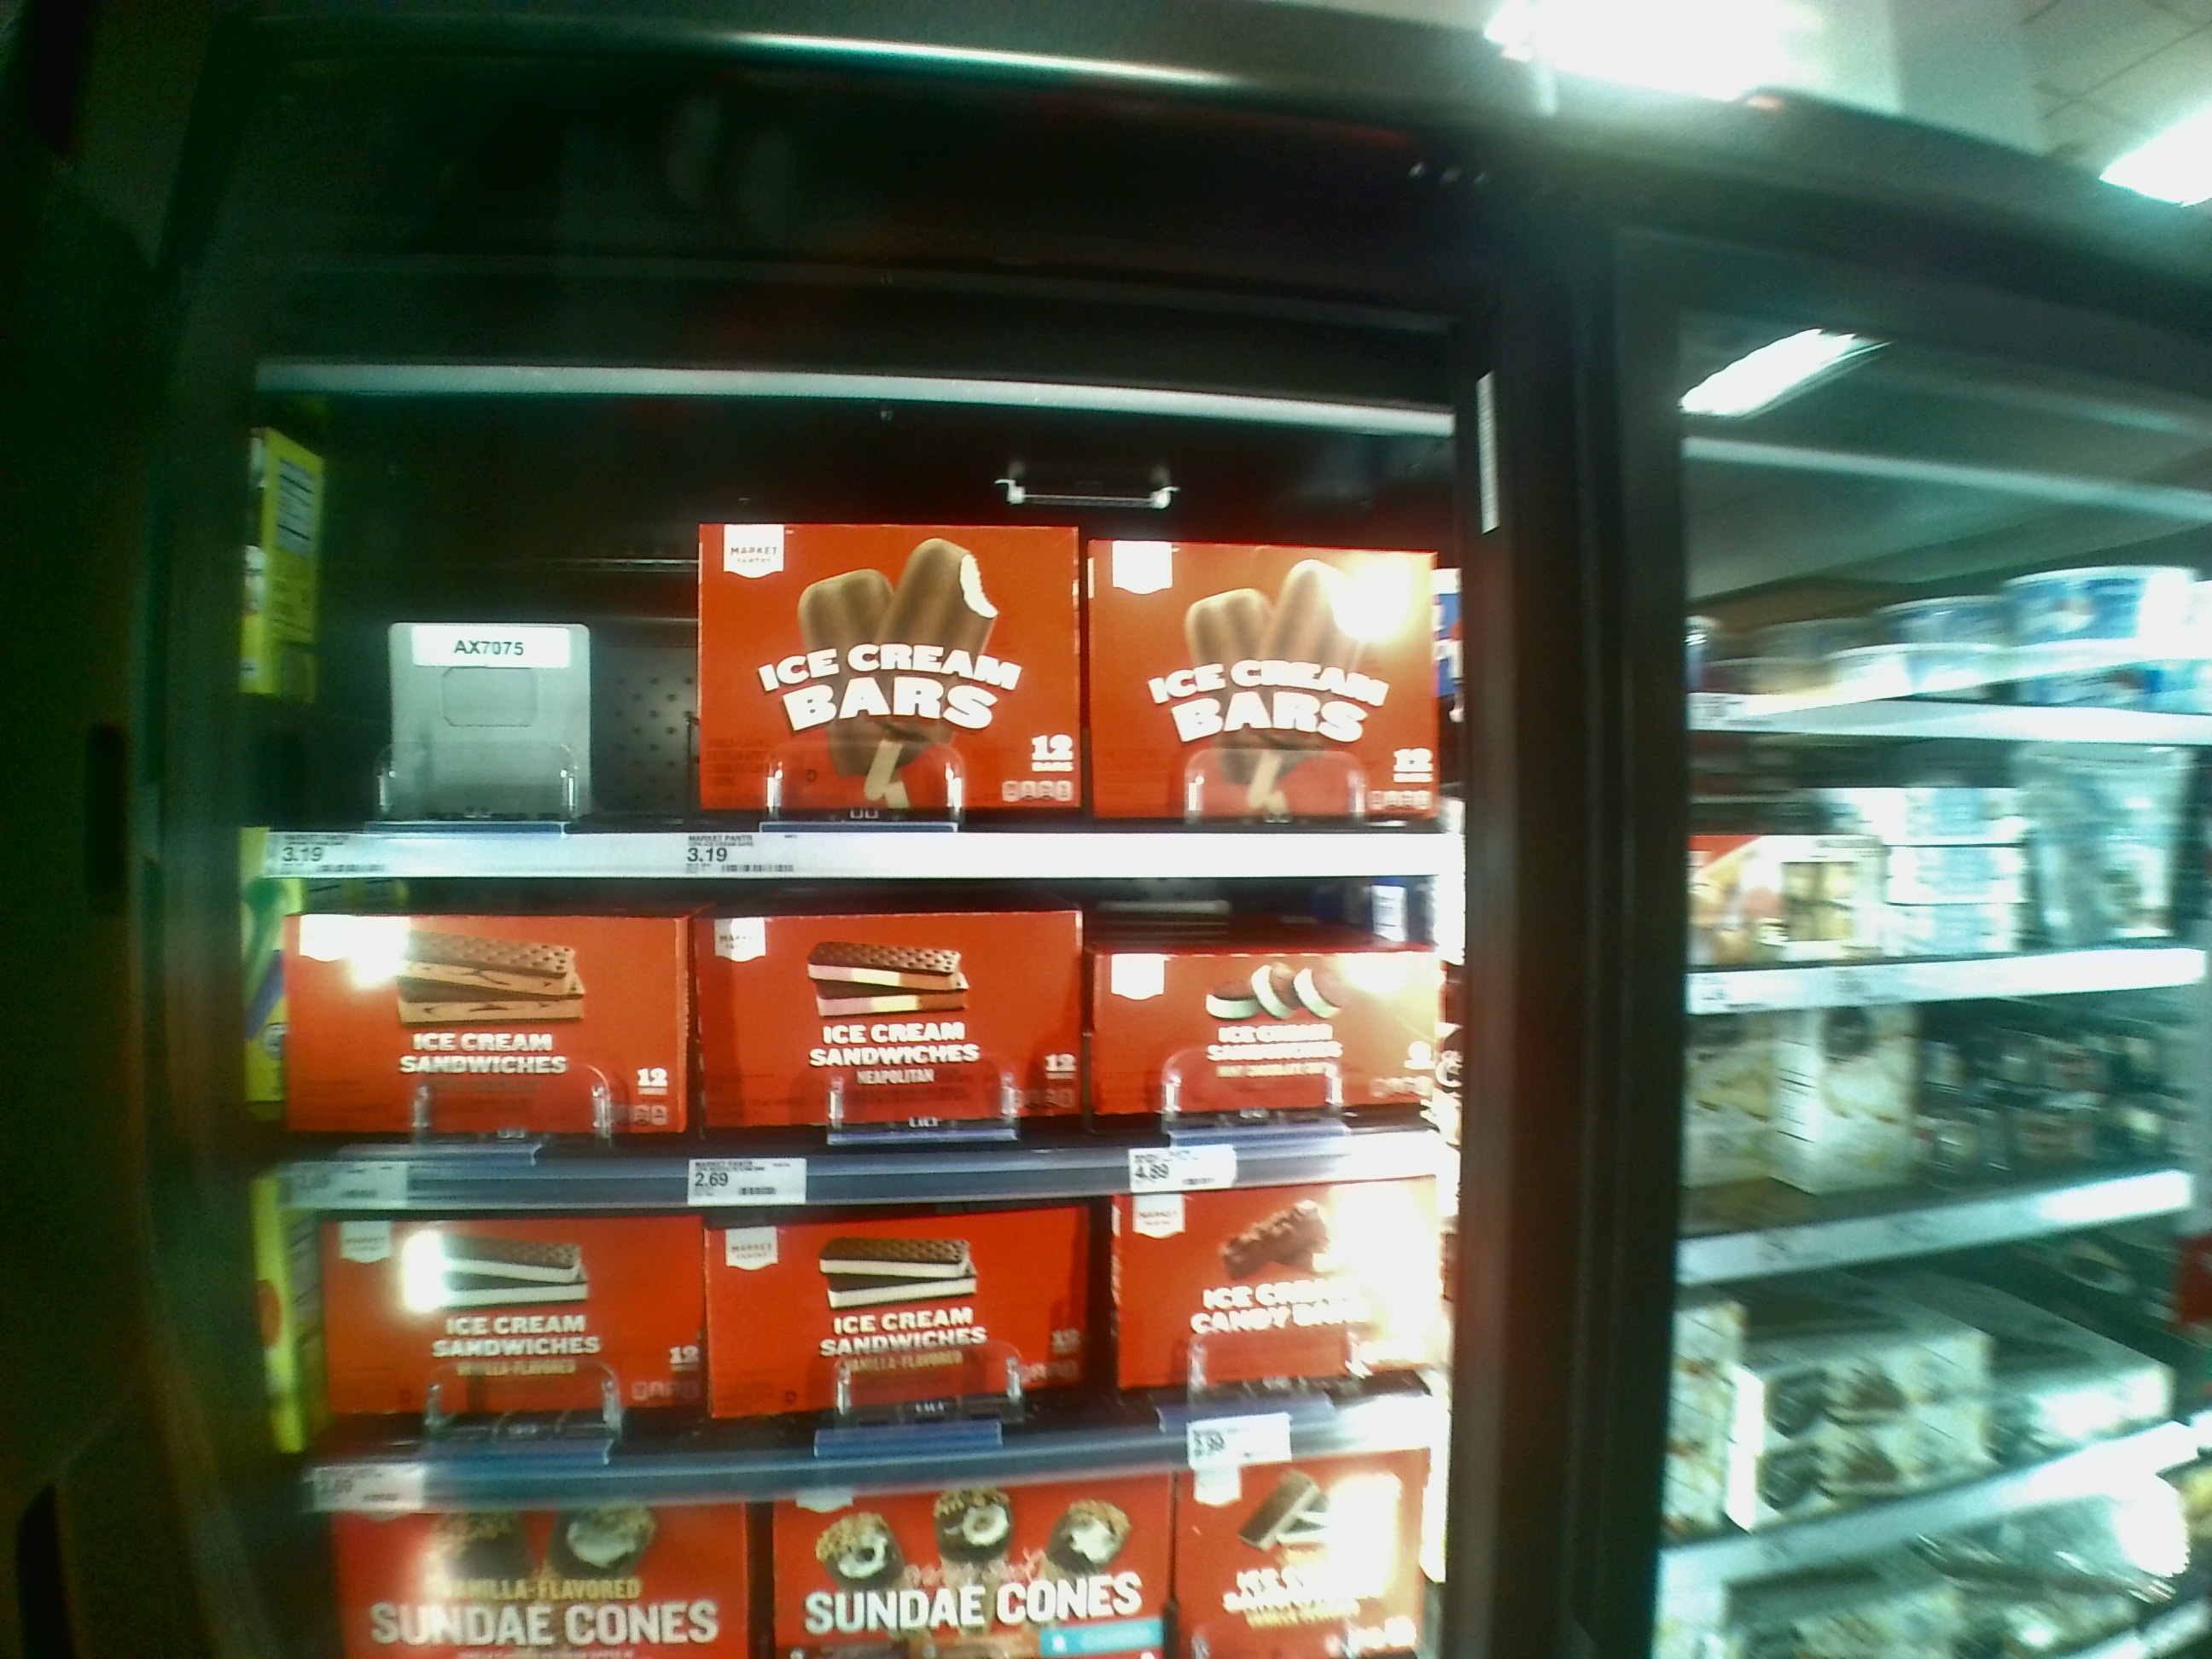shelf: (272, 383, 1470, 884), (279, 877, 1440, 1194), (296, 1206, 1433, 1490)
